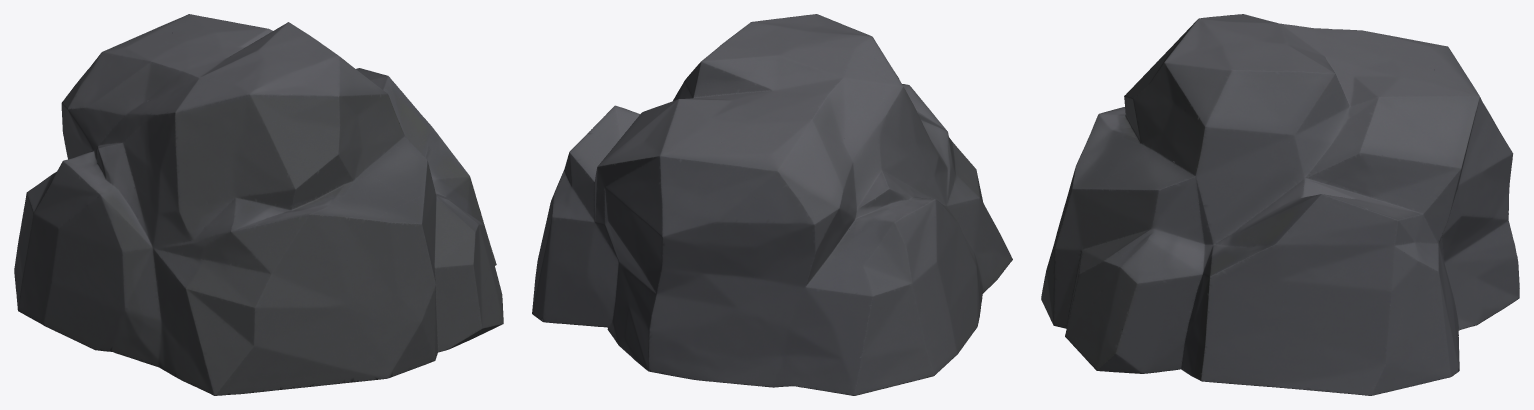
File: linemate.glb
3 renders of one model, left to right at view 1: azimuth 30°, elevation 25°; view 2: azimuth 150°, elevation 25°; view 3: azimuth 270°, elevation 25°, orthographic. The views are drawn at different scales.
Bounding box in the file's own units: 1.89 × 1.1 × 1.9.
1 material, 1 textured.
